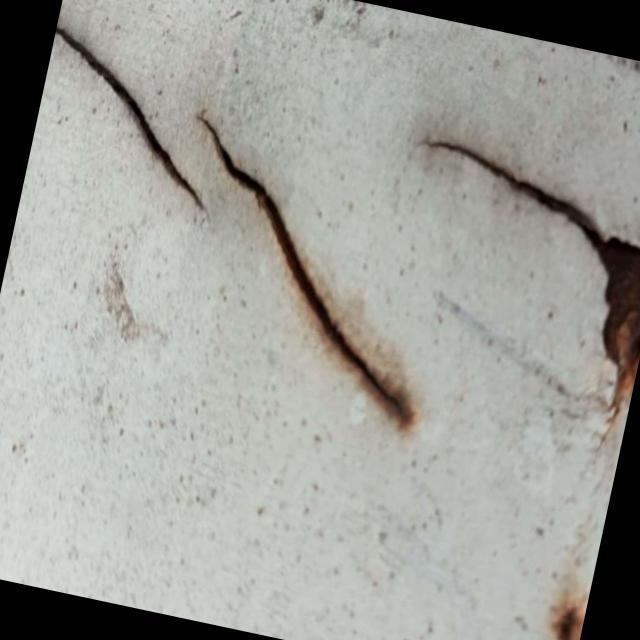defect: (197, 106, 419, 445), (53, 24, 217, 230), (413, 131, 613, 287)
